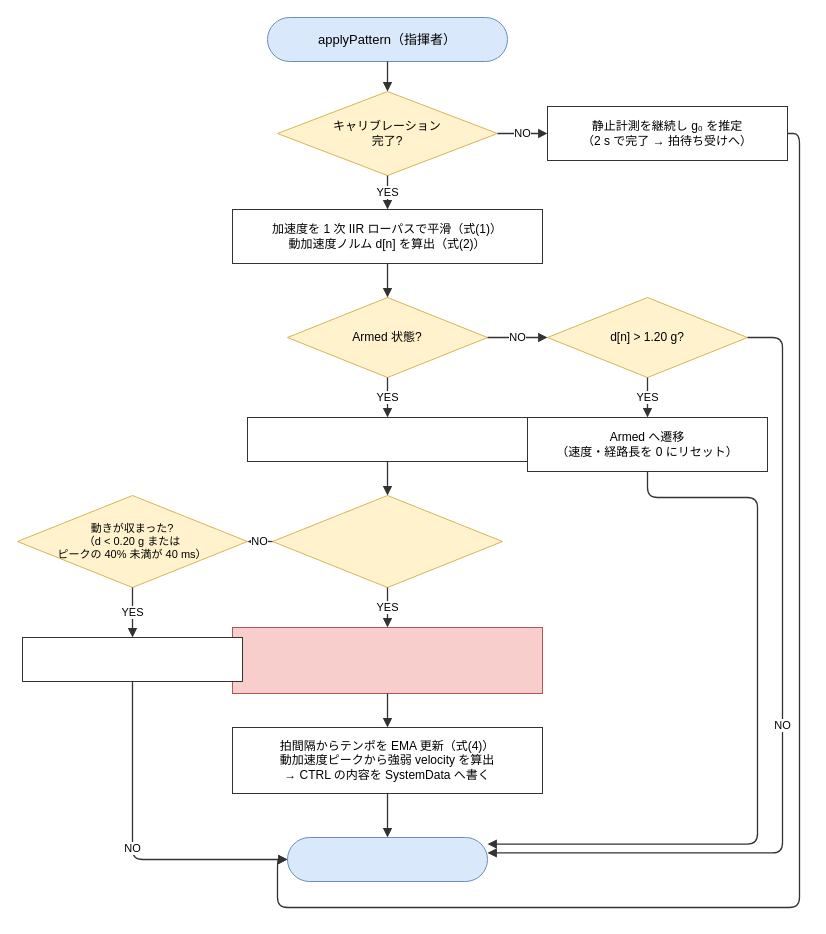
This 826x934 diagram has some shape labels left out. The shapes that lost their labels are listed below. From the top down, each one's centre as x and y in pixels, then its label:
pixel 387 439: 速度・移動経路長 L を積分（式(3)）
pixel 387 541: L ≥ 0.20 m かつ 不応期 350 ms 経過?
pixel 132 659: Armed を解除（待機へ戻す）
pixel 387 660: 拍を発火：拍番号を進め playAtMasterMs = 現在時刻 + 220 ms で BEAT 送信要求を SystemData へ書く
pixel 387 859: 終了（次周期へ）
